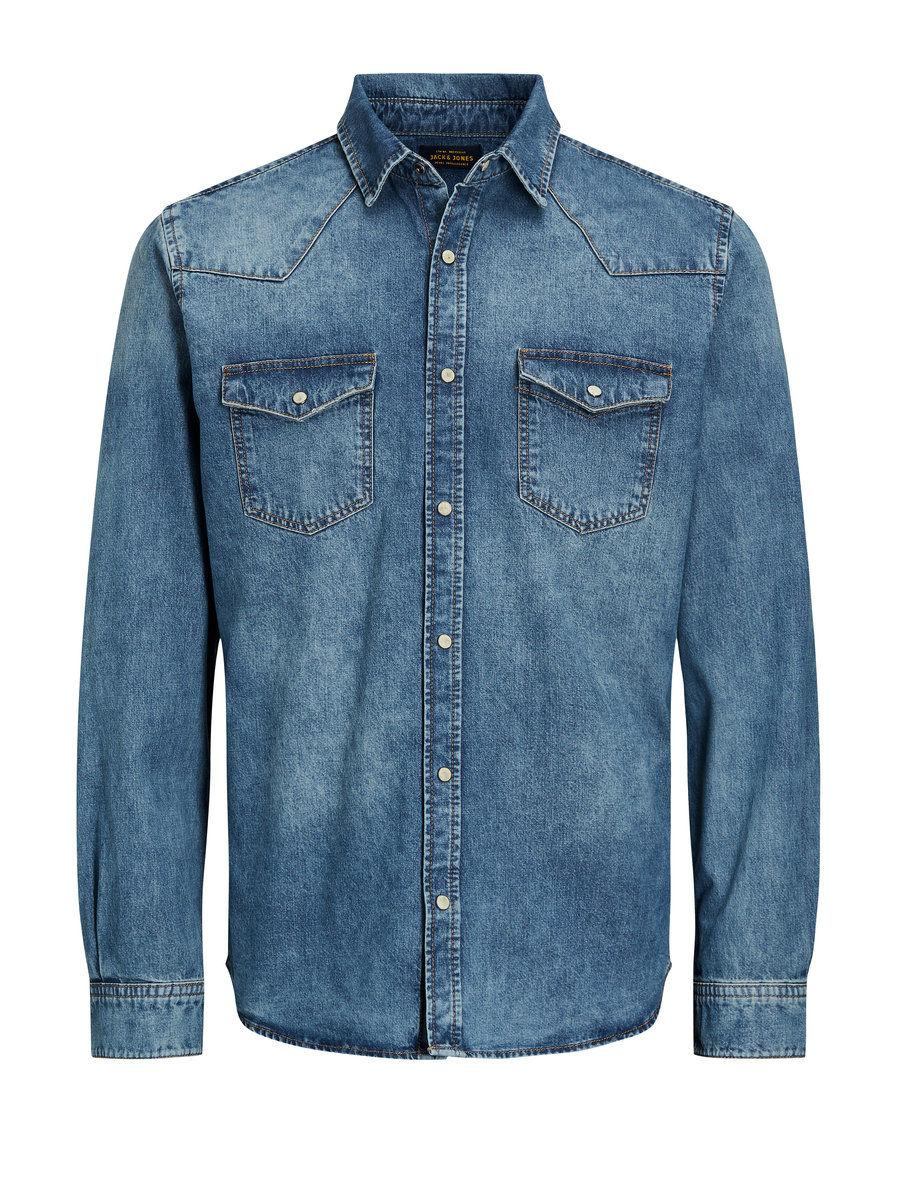teeshirt: (49, 63, 840, 1082)
